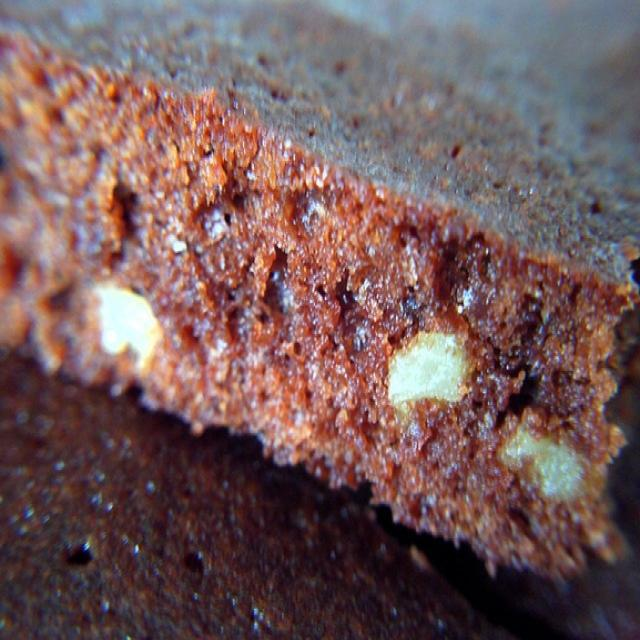蛋糕甜品: (8, 13, 628, 594)
